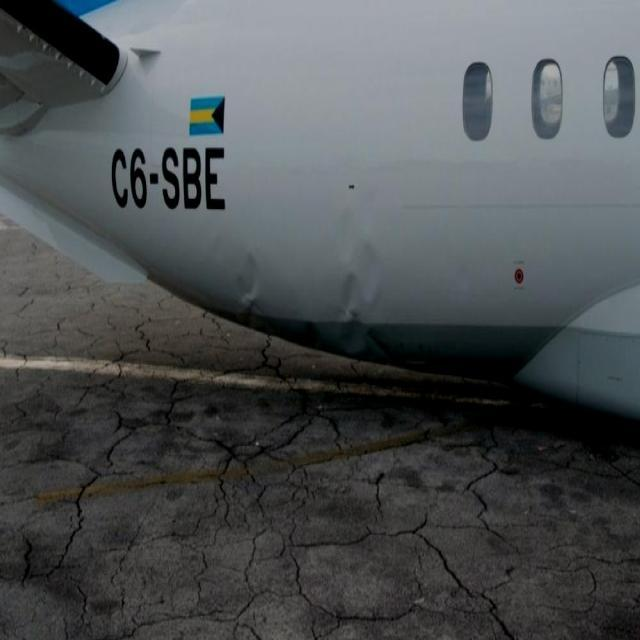dent: (338, 184, 386, 360), (228, 238, 266, 329)
